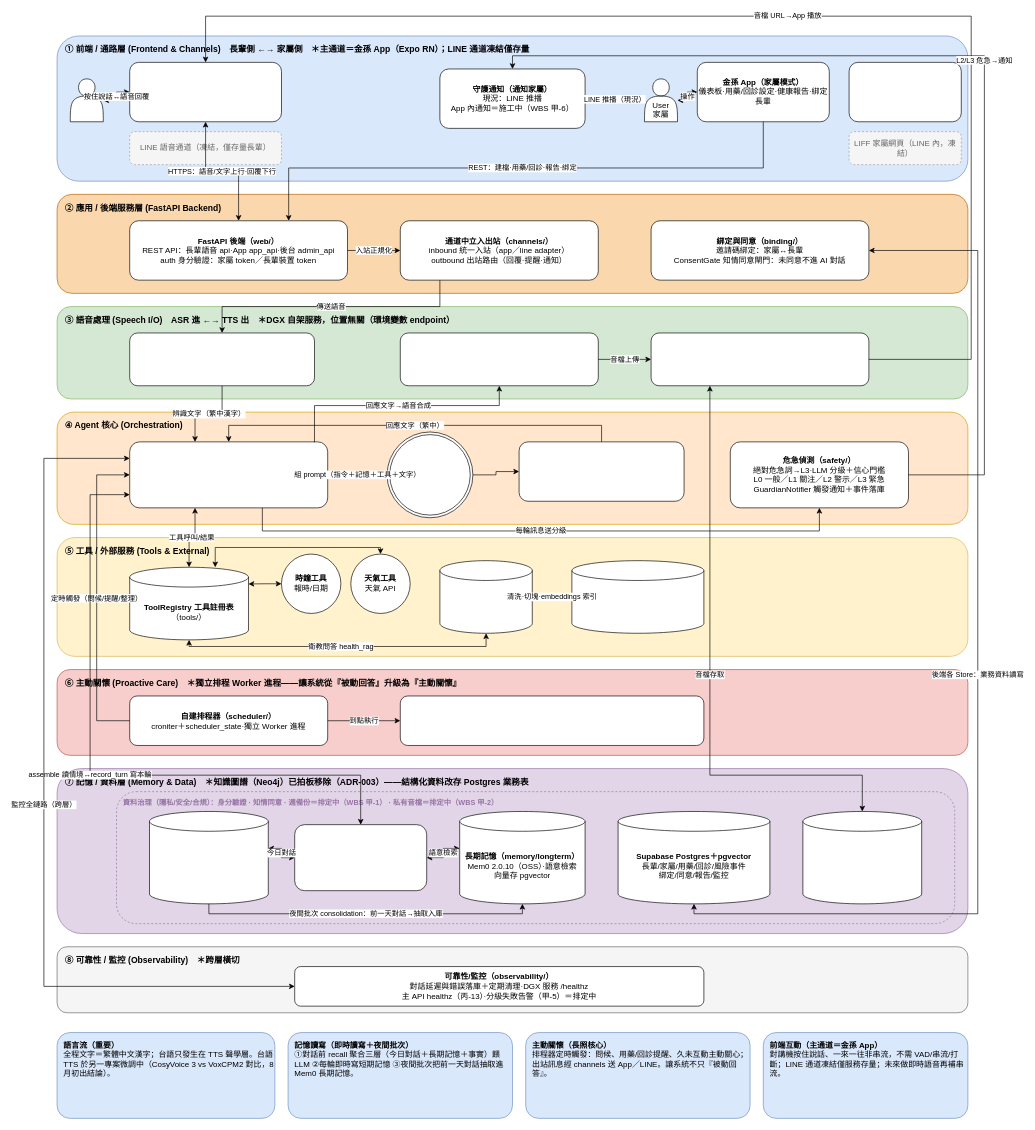
The diagram is 1035 pixels wide and 1130 high, and some of its shapes have lost their labels. Here are the shapes that lost their labels. From the top down, the centre of each, then its label:
At pixel 86 100: "User 長輩".
At pixel 205 92: "金孫 App（長輩模式） Expo React Native 對講機按住說話 → 聽語音回覆·大字介面".
At pixel 904 92: "admin 營運後台 React＋Vite 網頁 （走同一 FastAPI）".
At pixel 221 359: "ASR 語音轉文字 DGX 自架（services/asr） Breeze-ASR-26·國台語→繁中漢字".
At pixel 499 359: "TTS 文字轉語音 DGX 自架（services/tts）·CosyVoice 3（國語） 台語版另專案微調中（CosyVoice 3 vs VoxCPM2）".
At pixel 759 359: "音檔託管（audio/） 上傳 Supabase Storage·現況公開 bucket → 私有＋短效簽章 URL（WBS 甲-2）".
At pixel 228 474: "CareAgent（agent.py 樞紐） ①recall 讀情境 ②組 prompt ③呼叫 LLM ④寫短期記憶 ⑤送危急分級".
At pixel 429 474: "安全邊界 系統指令（陪伴人設） 不做醫療診斷·免責".
At pixel 601 471: "LLM（llm.py） 雲端 Gemini API（gemini-3.1-flash-lite） In：指令＋記憶＋工具＋文字 → Out：繁中回應".
At pixel 485 596: "衛教 RAG（rag/） 檢索·重排·引用".
At pixel 637 596: "衛教文件庫 清洗→切塊→embeddings（pgvector） 內容入庫待會-14".
At pixel 552 720: "排程任務（各領域 jobs.py） 用藥提醒·回診提醒·定時問候·久未互動關懷 健康摘要報告·夜間記憶整理·音檔/監控清理 → 經 channels 出站".
At pixel 208 857: "短期記憶（memory/shortterm） 今日對話上下文 Postgres 持久化".
At pixel 360 857: "情境聚合（memory/recall） SessionMemory：今日對話＋長期記憶＋事實 → 單輪情境".
At pixel 862 857: "Supabase Storage 語音音檔（上行錄音/回覆語音）".
